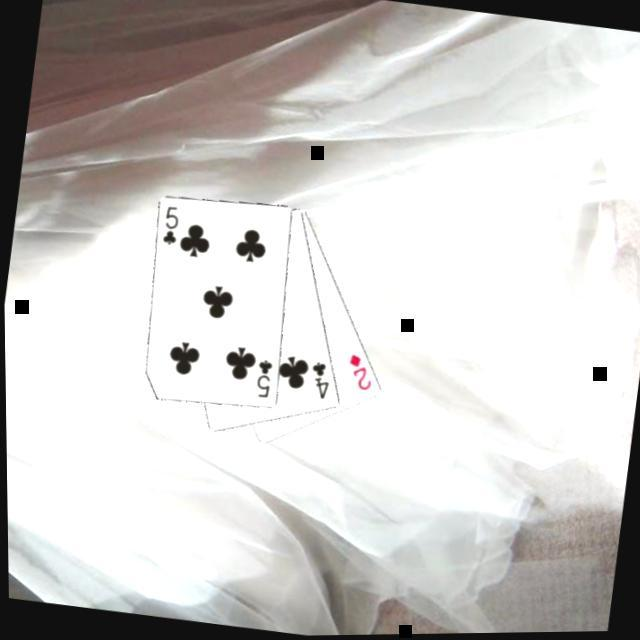2D: (340, 353, 376, 397)
4C: (301, 360, 332, 406)
5C: (155, 205, 182, 251), (247, 358, 274, 403)
